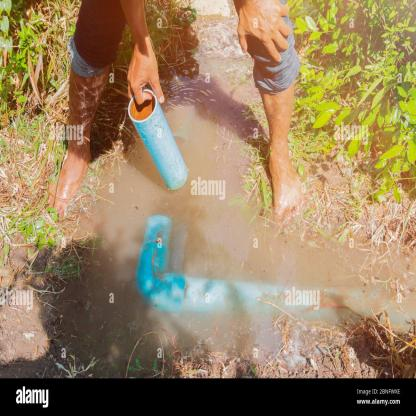PVC: (136, 216, 415, 325), (128, 88, 188, 191)
